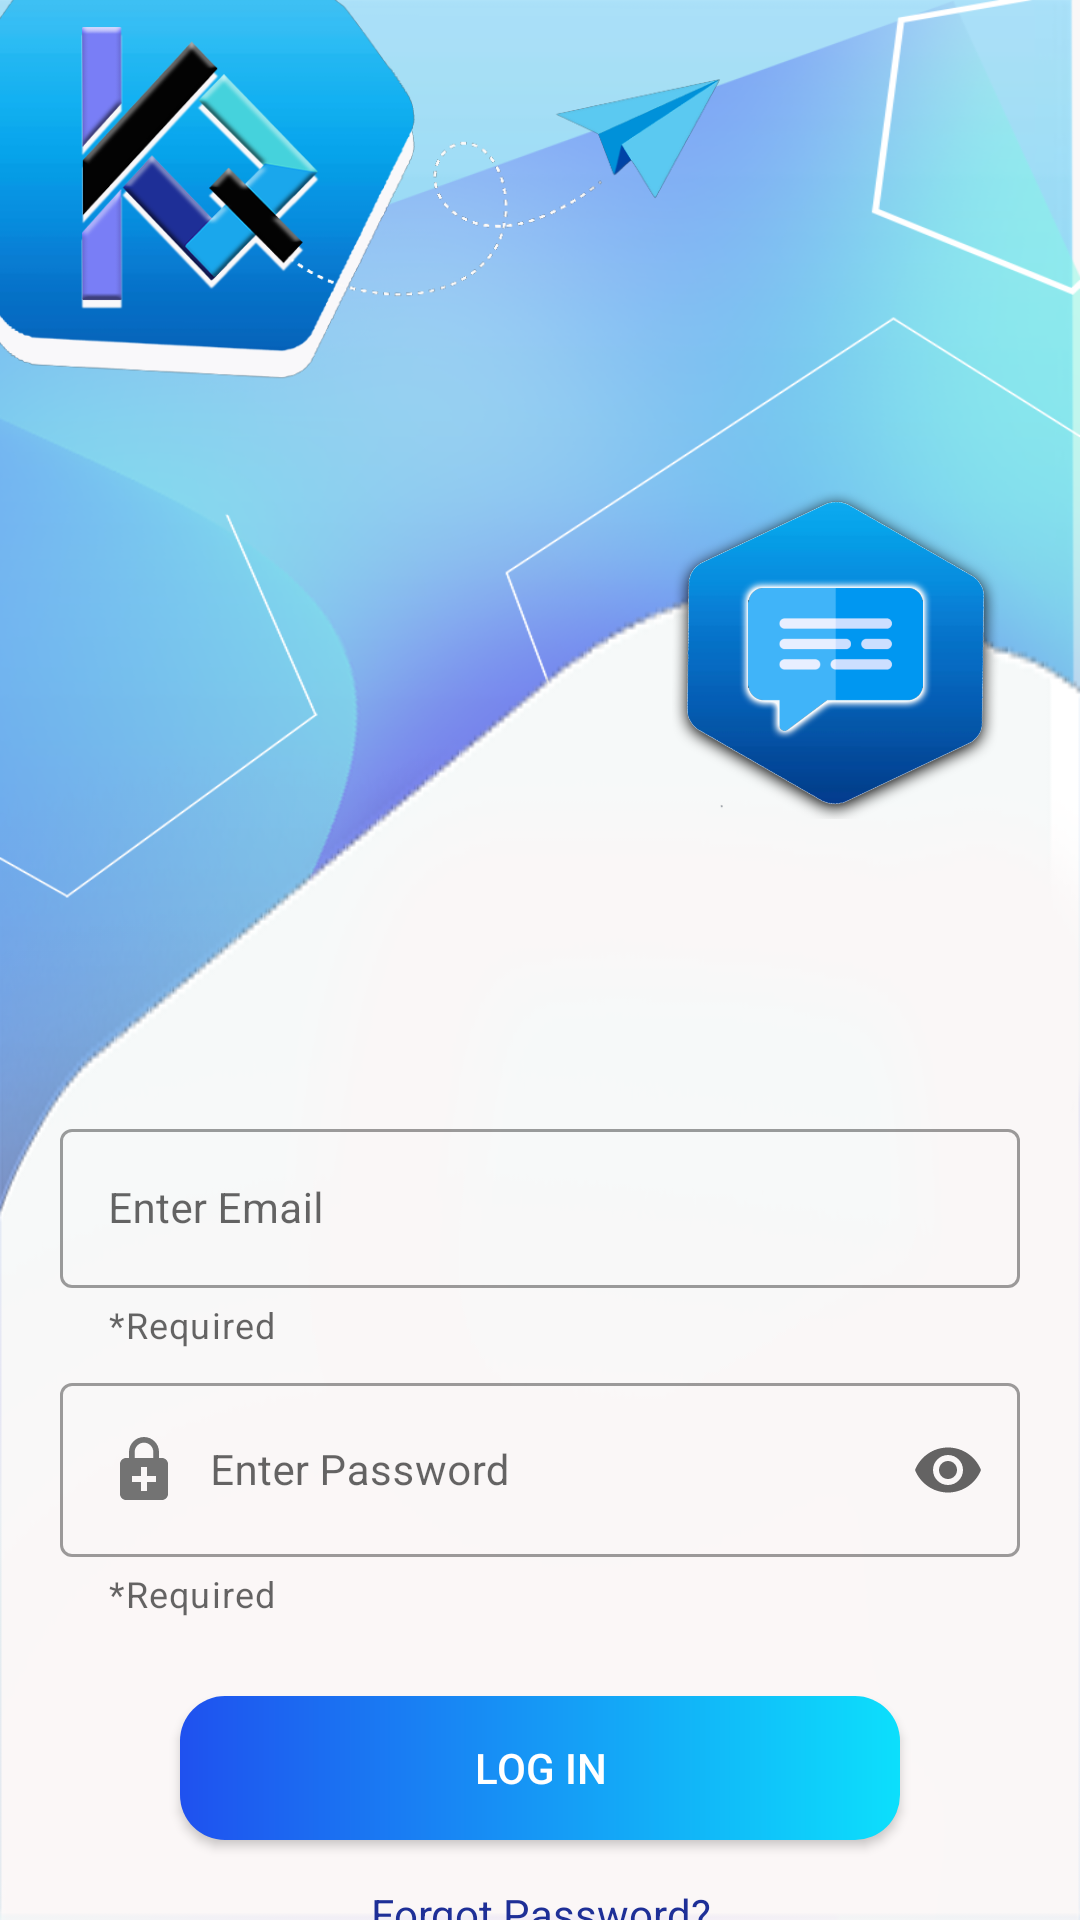

Icon click points for this 1080×1920 phone screenshot, format (x,y):
comment: (837,651)
